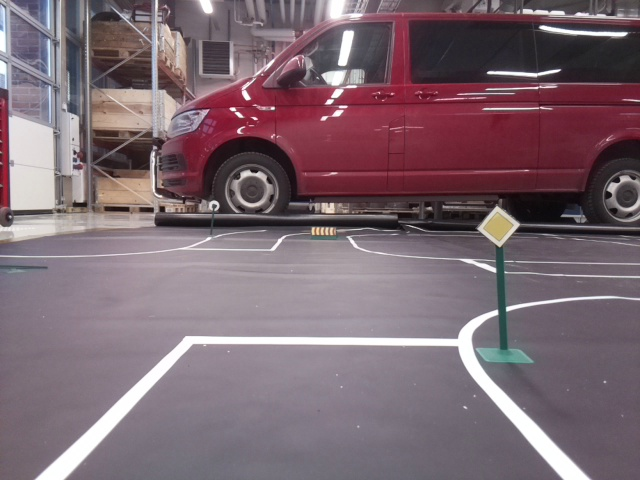Priority: (477, 207, 516, 244)
